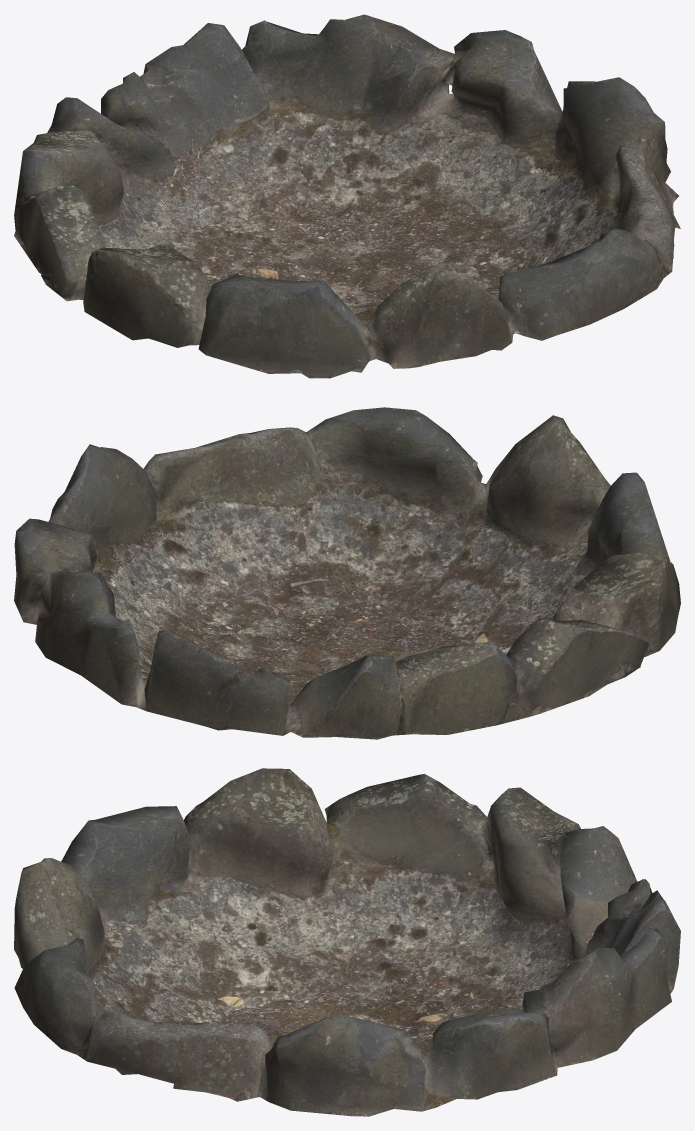
Rendered from stone_fire_pit.glb.
The picture shows the model from 3 angles, top to bottom: view 1: azimuth 30°, elevation 25°; view 2: azimuth 150°, elevation 25°; view 3: azimuth 270°, elevation 25°; orthographic projection.
Parts seen in each view (by area): view 1: stone_fire_pit; view 2: stone_fire_pit; view 3: stone_fire_pit.
Boxes of the visible parts, left/top/right/bottom form: stone_fire_pit: left=14, top=14, right=680, bottom=378; stone_fire_pit: left=14, top=407, right=680, bottom=739; stone_fire_pit: left=14, top=768, right=680, bottom=1116.
Size of the model in its own units: 1.45 by 0.3883 by 1.43.
Materials: 1 (1 with a texture image).
